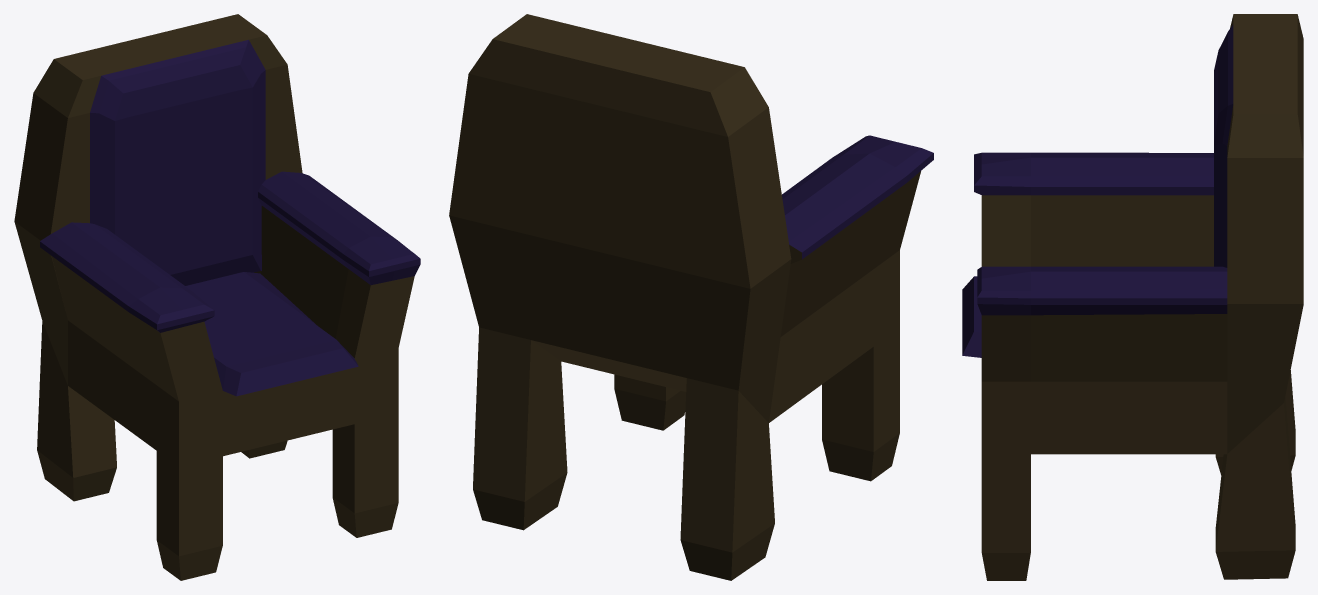
Rendered from Armchair.fbx.
3 renders of one model, left to right at view 1: azimuth 30°, elevation 25°; view 2: azimuth 150°, elevation 25°; view 3: azimuth 270°, elevation 25°, orthographic. The views are drawn at different scales.
Parts seen in each view (by area): view 1: Cube; view 2: Cube; view 3: Cube.
Boxes of the visible parts, x1=… form: Cube: x1=14, y1=14, x2=420, y2=580; Cube: x1=449, y1=14, x2=933, y2=580; Cube: x1=962, y1=14, x2=1303, y2=580.
Size of the model in its own units: 196 by 289 by 195.
